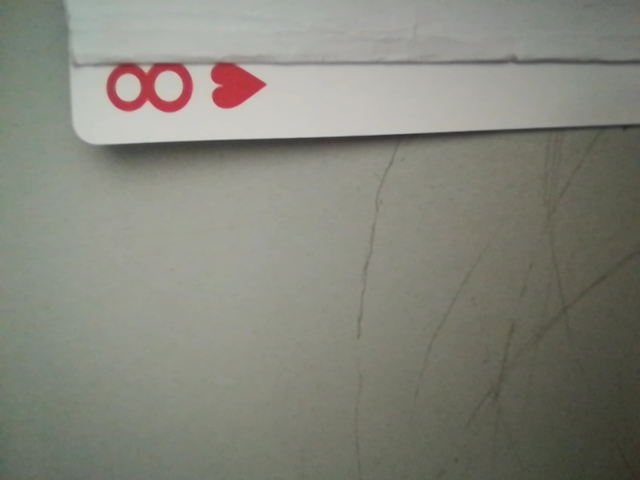hx 8: (92, 58, 273, 123)
